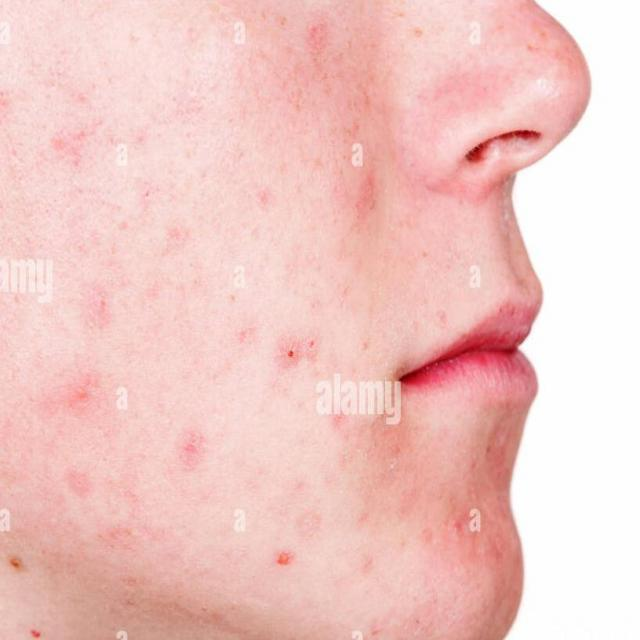Pimples: (48, 360, 118, 417), (82, 280, 110, 335), (352, 172, 378, 222), (178, 428, 204, 475), (275, 334, 301, 372), (275, 543, 296, 569), (8, 550, 26, 573)
